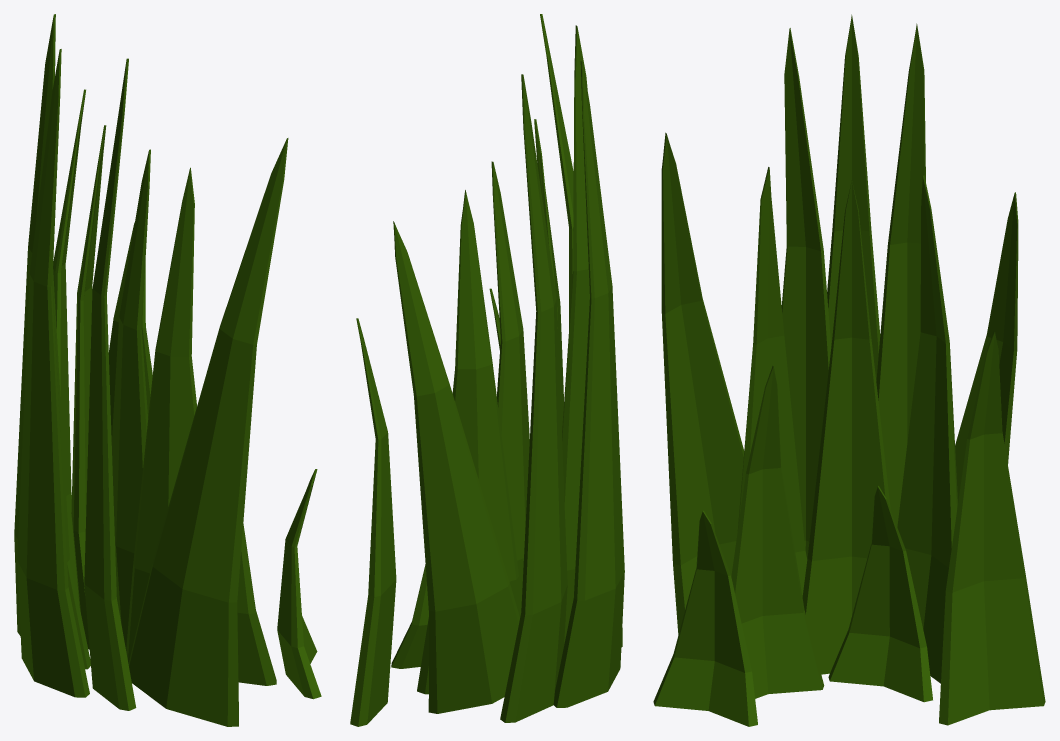
The model's file is grama001.fbx.
The picture shows the model from 3 angles, left to right: view 1: azimuth 30°, elevation 25°; view 2: azimuth 150°, elevation 25°; view 3: azimuth 270°, elevation 25°; orthographic projection.
Visible parts, largest first — view 1: Plane; view 2: Plane; view 3: Plane.
Part boxes in pixels (x1,y1,x2,y2): Plane: (14, 14, 321, 726); Plane: (350, 14, 624, 726); Plane: (653, 14, 1045, 726).
Size of the model in its own units: 3.88 by 9.96 by 5.53.
